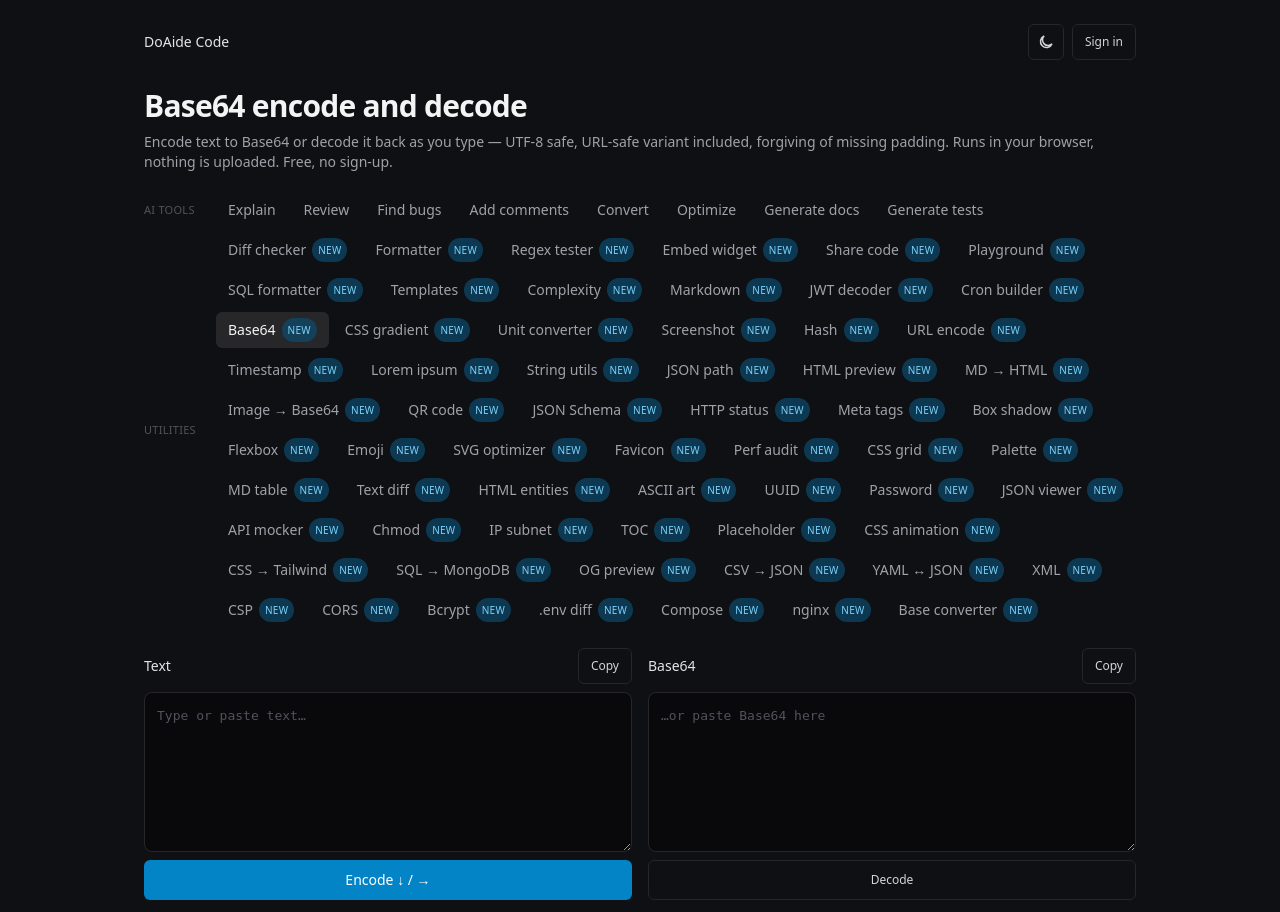
Scenario: Base64Page › switches to the URL-safe alphabet
This screenshot has width=1280, height=912.
Type "??>>" into the text box with test id "b64-text" at (388, 772), box [144, 692, 632, 852]
(page scrolled)
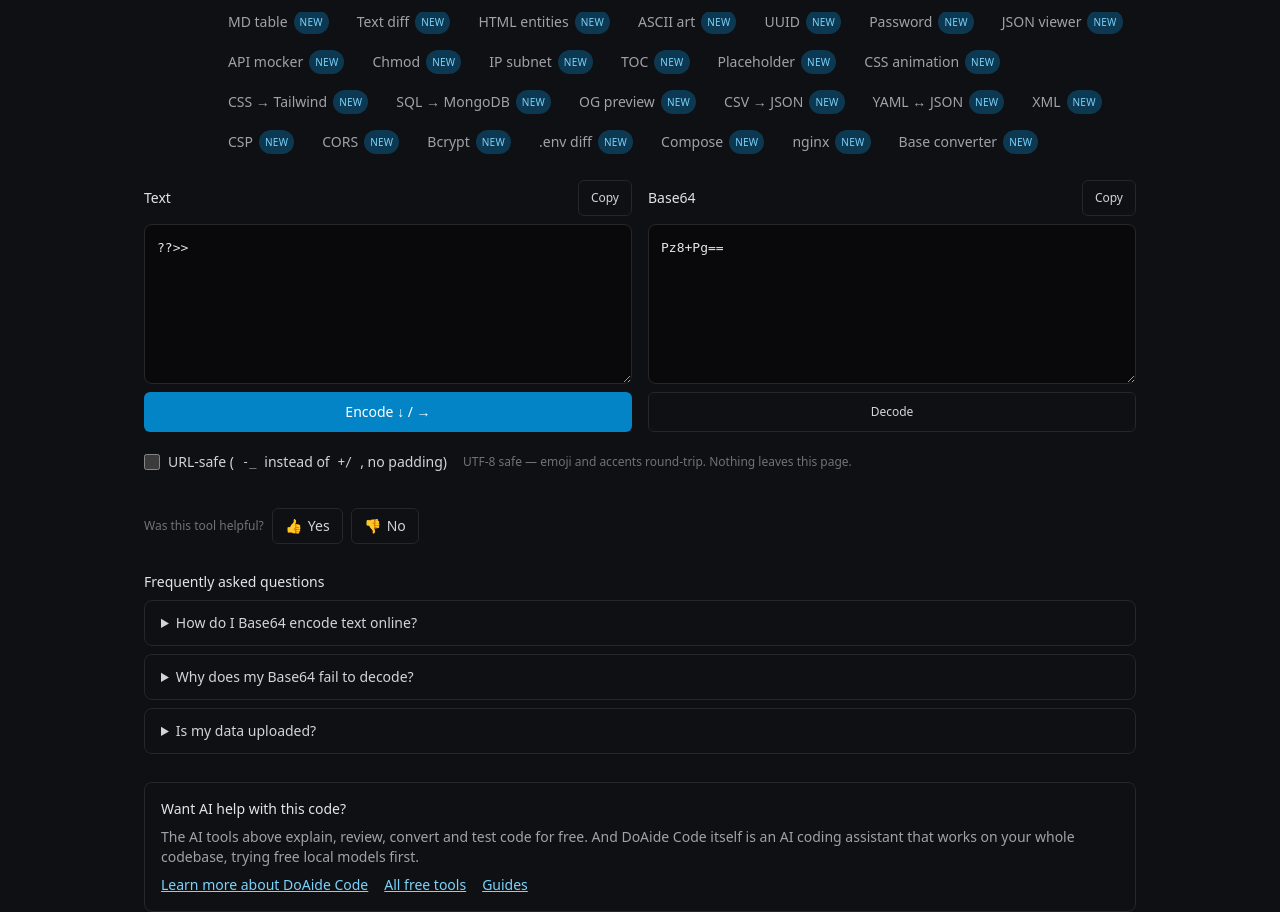
Click the checkbox with test id "b64-urlsafe" at (152, 462), box [144, 454, 160, 470]
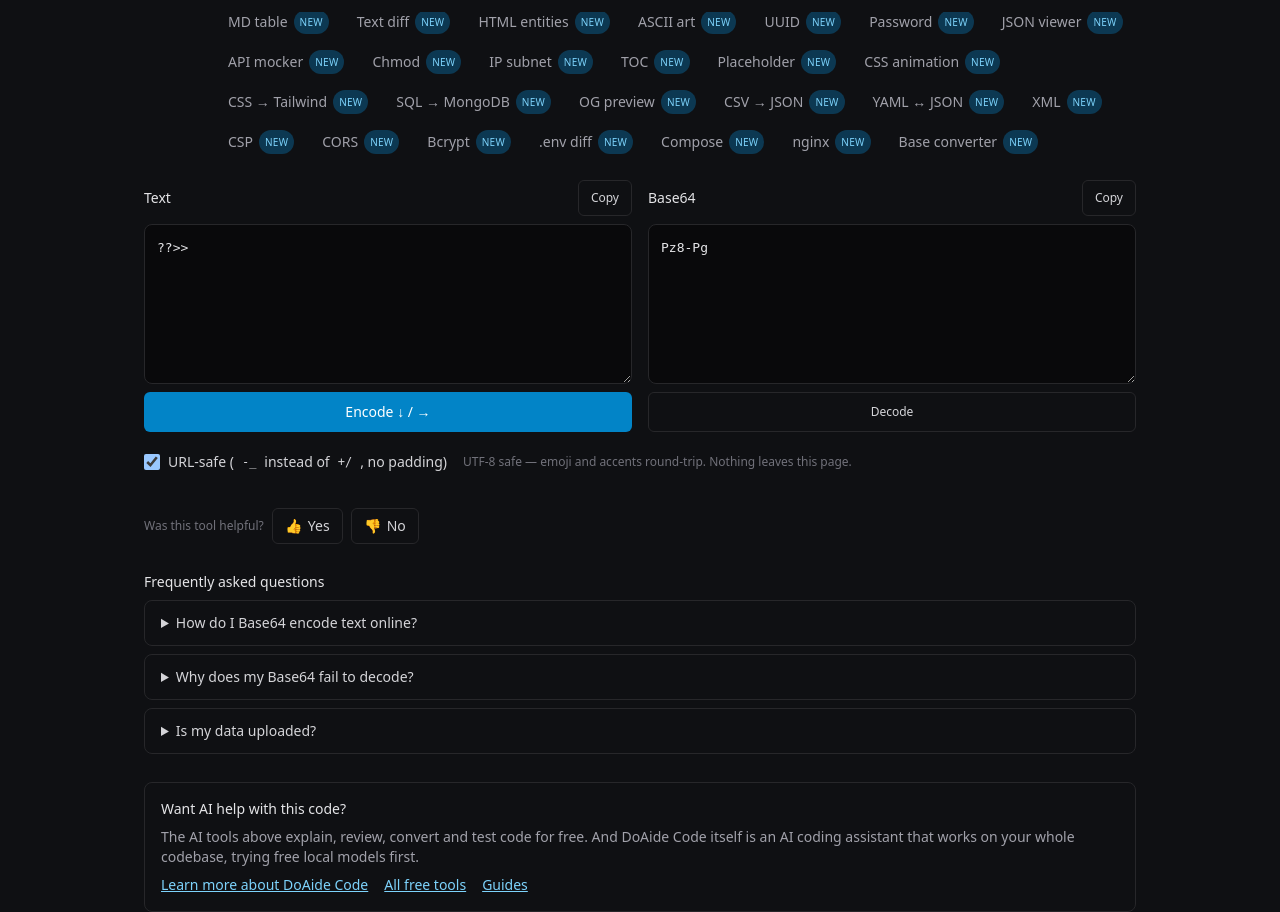
Now the text box with test id "b64-encoded" holds "Pz8-Pg", box [648, 224, 1136, 384]
